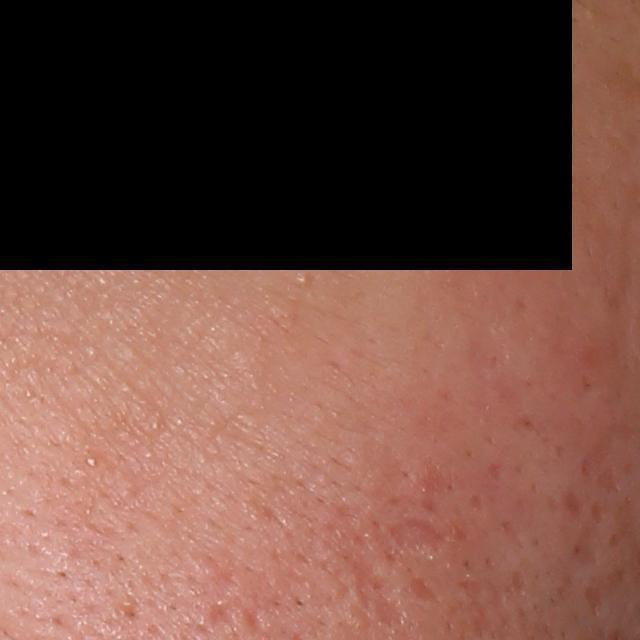atrophic_scar: (353, 557, 407, 626), (387, 517, 451, 553), (573, 519, 601, 570), (408, 578, 440, 606)
